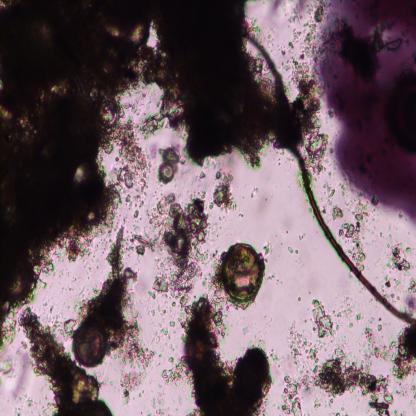Background material: (0, 0, 148, 347), (146, 0, 278, 164), (81, 225, 151, 401), (179, 296, 273, 415), (18, 305, 115, 415), (147, 192, 208, 299), (313, 352, 394, 414), (288, 67, 330, 174), (106, 115, 149, 218), (280, 321, 318, 414), (330, 198, 369, 268), (276, 0, 319, 46), (390, 324, 416, 384), (361, 316, 394, 362), (210, 162, 238, 214), (311, 296, 339, 341), (210, 244, 224, 308), (387, 238, 413, 272), (136, 110, 166, 139), (127, 227, 154, 257), (340, 294, 360, 330), (161, 360, 187, 386), (158, 142, 184, 165), (282, 28, 304, 55), (382, 272, 402, 296), (403, 280, 416, 314), (322, 182, 334, 214), (159, 318, 177, 339), (0, 353, 14, 380), (261, 240, 275, 260), (286, 244, 299, 256), (195, 170, 205, 182), (250, 185, 258, 199)
Diatom: (221, 242, 266, 300), (72, 324, 108, 368), (159, 164, 176, 183)
Natural material: (246, 36, 416, 327)
Pen: (316, 0, 416, 227)
